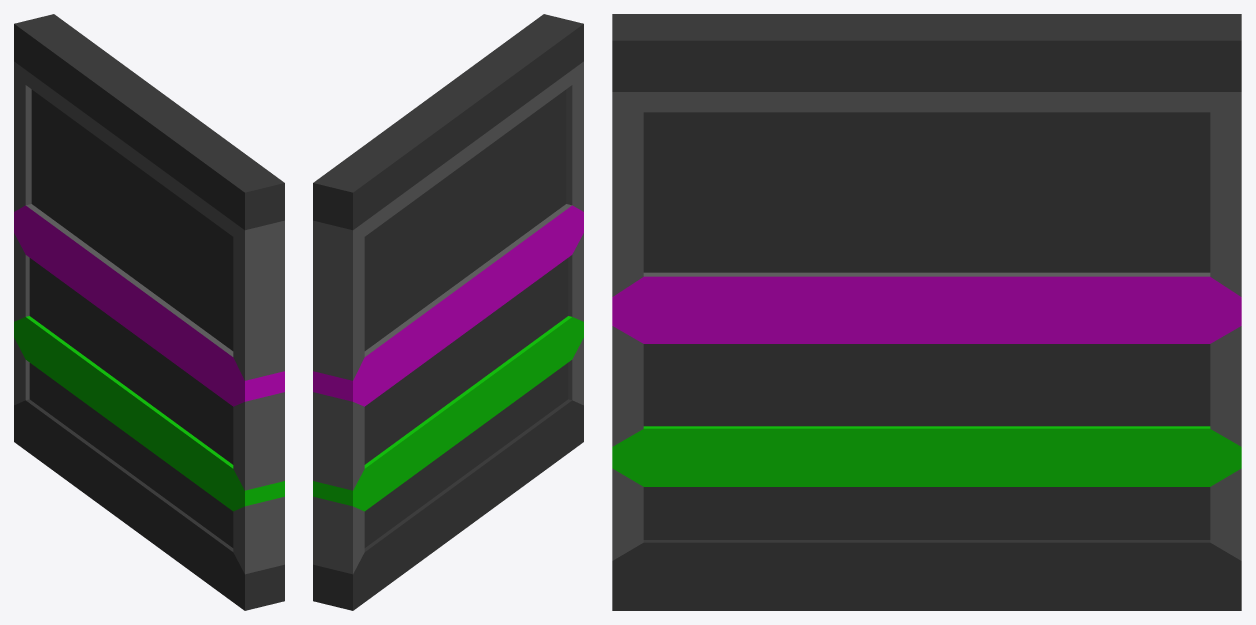
File: Wall.fbx
The picture shows the model from 3 angles, left to right: view 1: azimuth 30°, elevation 25°; view 2: azimuth 150°, elevation 25°; view 3: azimuth 270°, elevation 25°; orthographic projection. The views are drawn at different scales.
Parts seen in each view (by area): view 1: Wall; view 2: Wall; view 3: Wall.
Boxes of the visible parts, x1=… form: Wall: x1=14, y1=14, x2=284, y2=610; Wall: x1=313, y1=14, x2=583, y2=610; Wall: x1=612, y1=14, x2=1241, y2=610.
Size of the model in its own units: 200 by 2000 by 2000.
